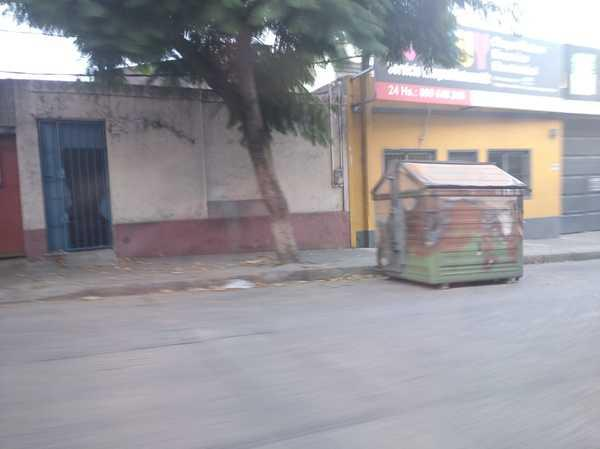Trash: (362, 155, 539, 298)
